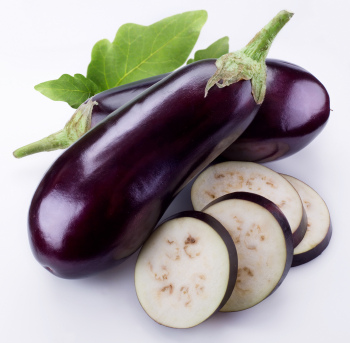eggplant: (21, 42, 278, 287), (18, 50, 341, 174)
